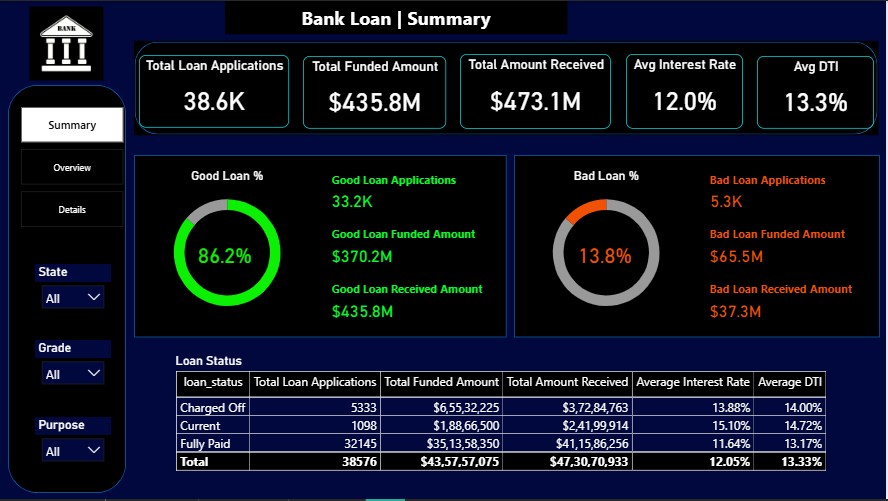

The page's visual inventory and layout, read from the dashboard file:
{"tool":"powerbi","page":{"name":"Summary","canvas":[1280,720],"ordinal":0},"visuals":[{"type":"textbox","box":[326,0,494.6,48.2],"z":0},{"type":"shape","box":[194.2,58.1,1075.7,136.1],"z":0,"group":"g1"},{"type":"shape","box":[11.6,121.4,170.6,589.9],"z":500},{"type":"group","id":"g1","title":"Group 1","box":[194.2,58.1,1075.7,136.1],"z":1000},{"type":"shape","box":[194.2,222.5,538.6,263.6],"z":1000,"group":"g2"},{"type":"card","title":"Total Loan Applications","fields":{"Values":["financial_loan.Total Loan Applications"]},"box":[201.3,77.9,216.9,104.9],"z":2000,"group":"g1"},{"type":"donutChart","title":"Bad Loan %","fields":{"Category":["financial_loan.Good Loans vs Bad Loans"],"Y":["financial_loan.Total Loan Applications"]},"box":[748.4,240.9,255.1,223.9],"z":2000,"group":"g7"},{"type":"card","title":"Total Funded Amount","fields":{"Values":["financial_loan.Total Funded Amount"]},"box":[438.7,79.4,206.9,104.9],"z":3000,"group":"g1"},{"type":"group","id":"g2","title":"Group 5","box":[194.2,222.5,538.6,263.6],"z":3000},{"type":"shape","box":[742.7,222.5,528.7,263.6],"z":3000,"group":"g3"},{"type":"cardVisual","fields":{"Data":["financial_loan.Good Loan Applications","financial_loan.Good Loan Funded Amount","financial_loan.Good Loan Received Amount"]},"box":[463.5,233.8,256.5,240.9],"z":3000,"group":"g2"},{"type":"donutChart","title":"Good Loan %","fields":{"Category":["financial_loan.Good Loans vs Bad Loans"],"Y":["financial_loan.Total Loan Applications"]},"box":[201.3,240.9,255.1,223.9],"z":3000,"group":"g8"},{"type":"card","title":"Avg Interest Rate","fields":{"Values":["financial_loan.Bad Loan%"]},"box":[825,337.4,97.8,55.3],"z":3000,"group":"g7"},{"type":"cardVisual","fields":{"Data":["financial_loan.Bad Loan Applications","financial_loan.Bad Loan Funded Amount","financial_loan.Bad Loan Received Amount"]},"box":[1009.2,233.8,255.1,240.9],"z":3500,"group":"g6"},{"type":"card","title":"Total Amount Received","fields":{"Values":["financial_loan.Total Amount Received"]},"box":[666.2,76.5,218.3,107.7],"z":4000,"group":"g1"},{"type":"group","id":"g3","title":"Group 8","box":[742.7,222.5,528.7,263.6],"z":4000},{"type":"group","id":"g4","title":"Group 3","box":[748.4,240.9,255.1,223.9],"z":4000,"group":"g6"},{"type":"card","title":"Avg Interest Rate","fields":{"Values":["financial_loan.Good Loan%"]},"box":[274,337.3,103.5,55.3],"z":4000,"group":"g8"},{"type":"card","title":"Avg Interest Rate","fields":{"Values":["financial_loan.Average Interest Rate"]},"box":[905,76.5,168.7,107.7],"z":5000,"group":"g1"},{"type":"group","id":"g5","title":"Group 2","box":[201.3,240.9,255.1,223.9],"z":5000,"group":"g2"},{"type":"tableEx","title":"Loan Status","fields":{"Values":["financial_loan.loan_status","financial_loan.Total Loan Applications","financial_loan.Total Funded Amount","financial_loan.Total Amount Received","financial_loan.Average Interest Rate","financial_loan.Average DTI"]},"box":[248,508.8,968,185.7],"z":5000},{"type":"group","id":"g6","title":"Group 7","box":[748.4,233.8,515.9,240.9],"z":5001,"group":"g3"},{"type":"group","id":"g7","title":"Group 6","box":[748.4,240.9,255.1,223.9],"z":5001,"group":"g4"},{"type":"card","title":"Avg DTI","fields":{"Values":["financial_loan.Average DTI"]},"box":[1094.2,79.4,168.7,104.9],"z":6000,"group":"g1"},{"type":"slicer","title":"State","fields":{"Values":["financial_loan.address_state"]},"box":[50.6,380.2,109.9,70.8],"z":6000},{"type":"group","id":"g8","title":"Group 4","box":[201.3,240.9,255.1,223.9],"z":6001,"group":"g5"},{"type":"slicer","title":"Grade","fields":{"Values":["financial_loan.grade"]},"box":[50.6,490.1,109.9,72.3],"z":7000},{"type":"slicer","title":"Purpose","fields":{"Values":["financial_loan.purpose"]},"box":[50.6,601.4,109.9,70.8],"z":8000},{"type":"pageNavigator","box":[30.4,153.3,148.9,174.9],"z":9000},{"type":"image","box":[30.4,2.9,130.1,117.1],"z":10000}]}

Visuals, with their boxes in screenshot pixels (x1, y1, x2, y2), scaled from the page's 1280x720 canvas onto the 888x501 screenshot:
textbox: crop(226, 0, 569, 34)
shape: crop(135, 40, 881, 135)
shape: crop(8, 84, 126, 495)
"Group 1" group: crop(135, 40, 881, 135)
shape: crop(135, 155, 508, 338)
"Total Loan Applications" card: crop(140, 54, 290, 127)
"Bad Loan %" donutChart: crop(519, 168, 696, 323)
"Total Funded Amount" card: crop(304, 55, 448, 128)
"Group 5" group: crop(135, 155, 508, 338)
shape: crop(515, 155, 882, 338)
cardVisual - financial_loan.Good Loan Applications x financial_loan.Good Loan Funded Amount: crop(322, 163, 500, 330)
"Good Loan %" donutChart: crop(140, 168, 317, 323)
"Avg Interest Rate" card: crop(572, 235, 640, 273)
cardVisual - financial_loan.Bad Loan Applications x financial_loan.Bad Loan Funded Amount: crop(700, 163, 877, 330)
"Total Amount Received" card: crop(462, 53, 614, 128)
"Group 8" group: crop(515, 155, 882, 338)
"Group 3" group: crop(519, 168, 696, 323)
"Avg Interest Rate" card: crop(190, 235, 262, 273)
"Avg Interest Rate" card: crop(628, 53, 745, 128)
"Group 2" group: crop(140, 168, 317, 323)
"Loan Status" tableEx: crop(172, 354, 844, 483)
"Group 7" group: crop(519, 163, 877, 330)
"Group 6" group: crop(519, 168, 696, 323)
"Avg DTI" card: crop(759, 55, 876, 128)
"State" slicer: crop(35, 265, 111, 314)
"Group 4" group: crop(140, 168, 317, 323)
"Grade" slicer: crop(35, 341, 111, 391)
"Purpose" slicer: crop(35, 418, 111, 468)
pageNavigator: crop(21, 107, 124, 228)
image: crop(21, 2, 111, 84)
